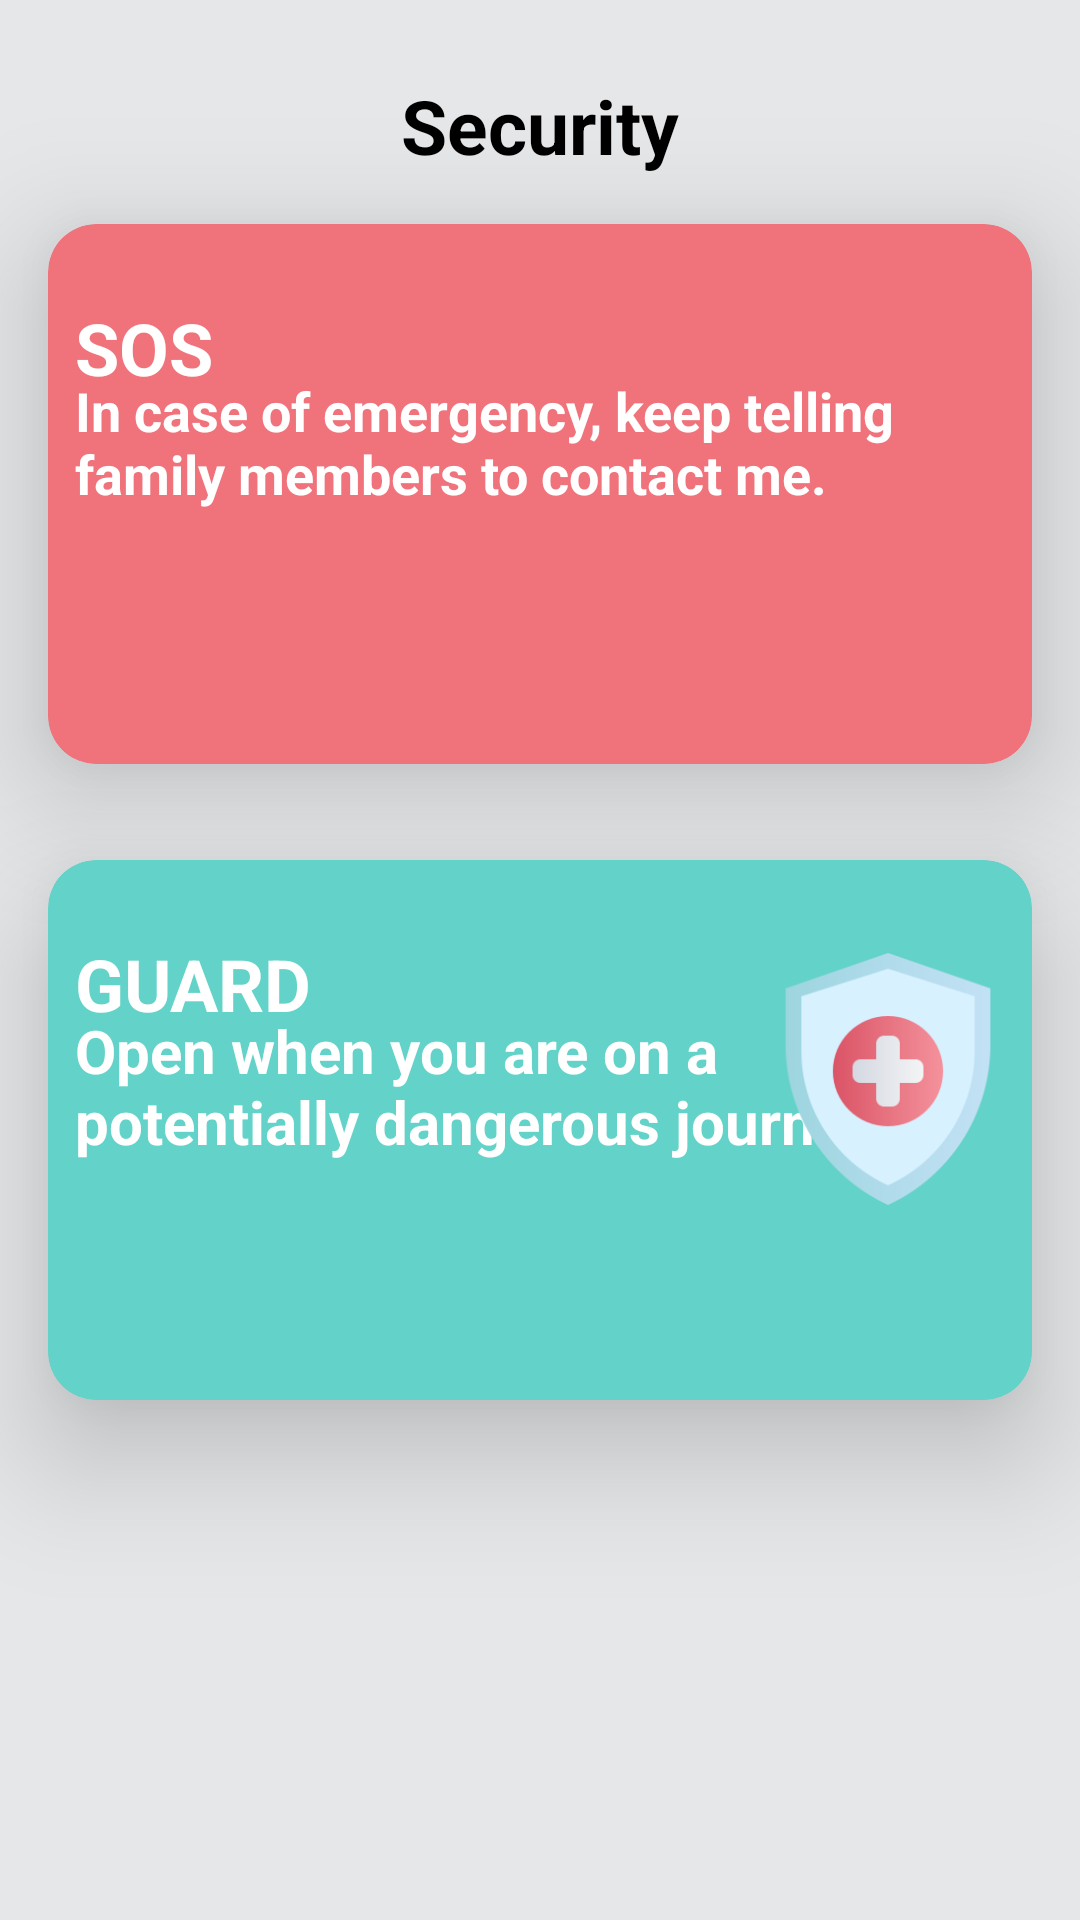

Where to tap for icons on this 1080*1920 app screen, as [x,y]:
guard: [876,1079]
